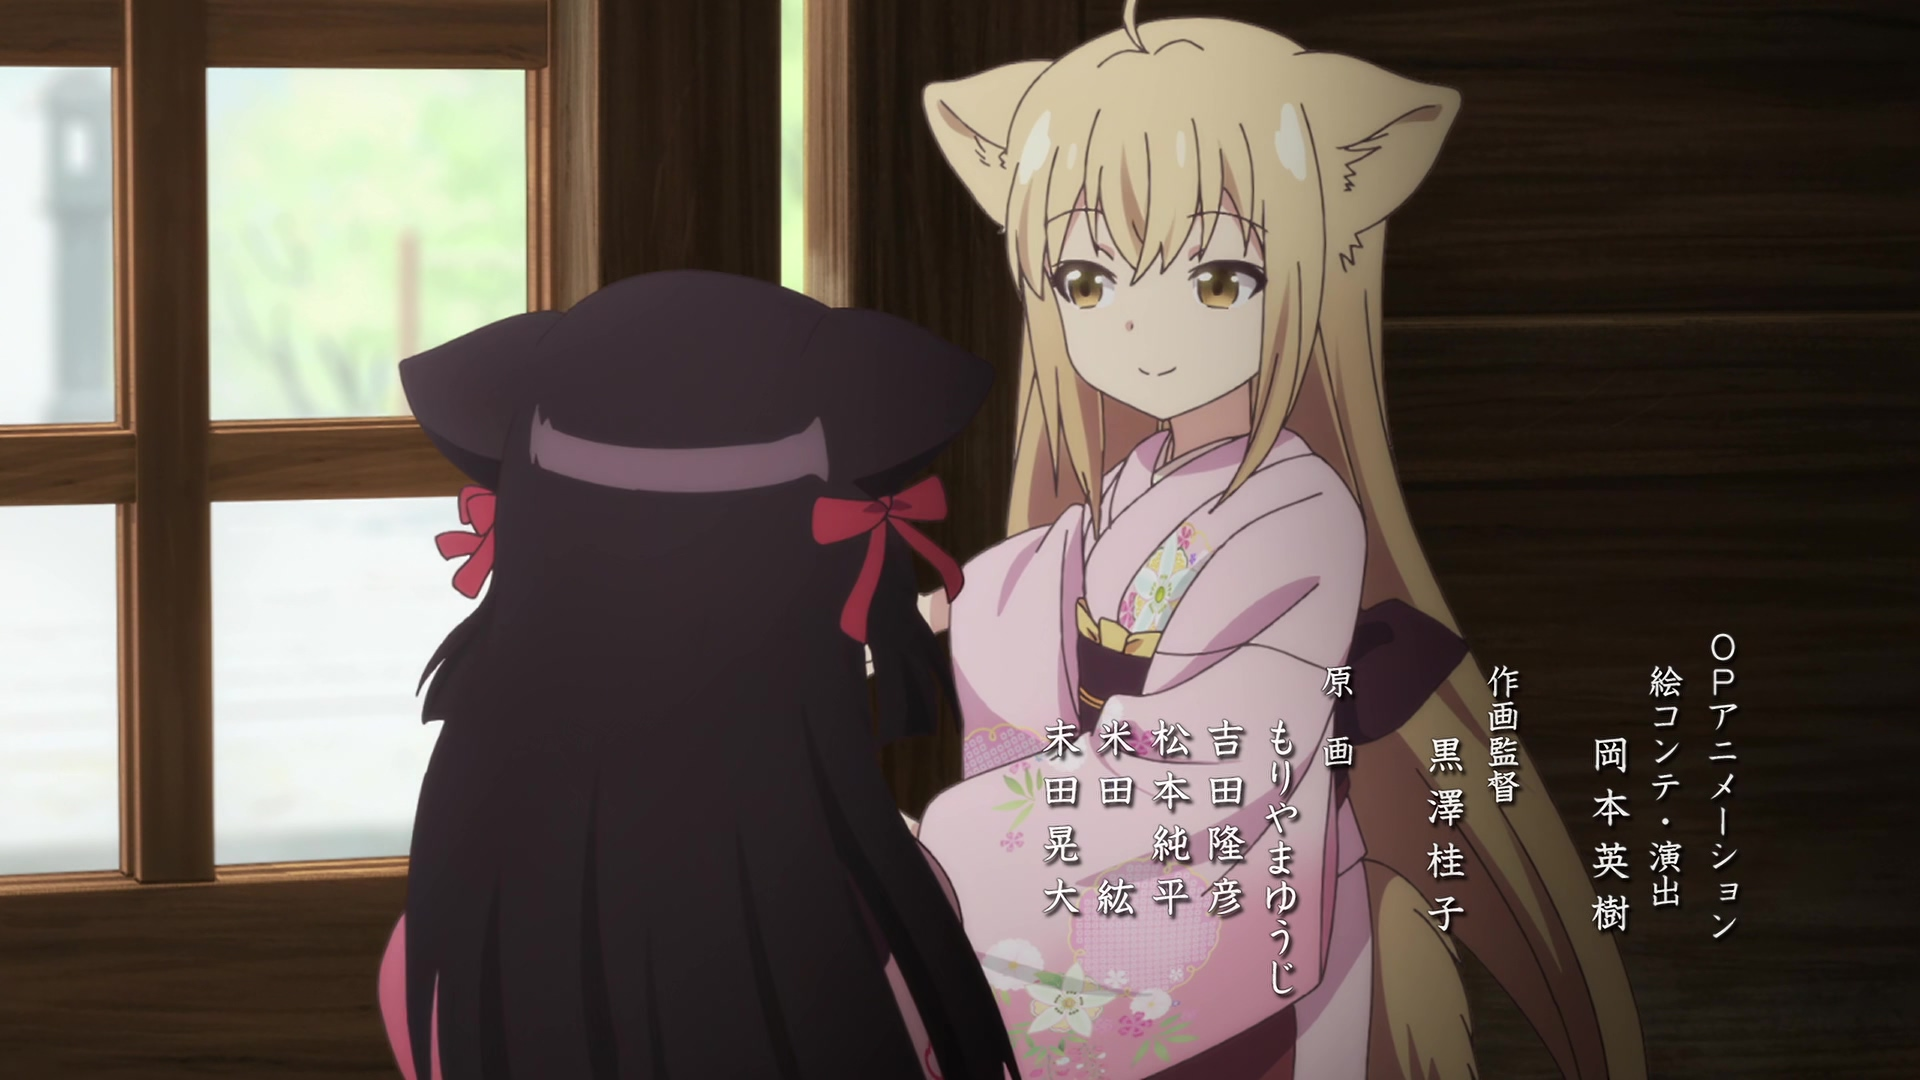柚: (919, 1, 1644, 1080)
樱: (375, 272, 1021, 1080)
